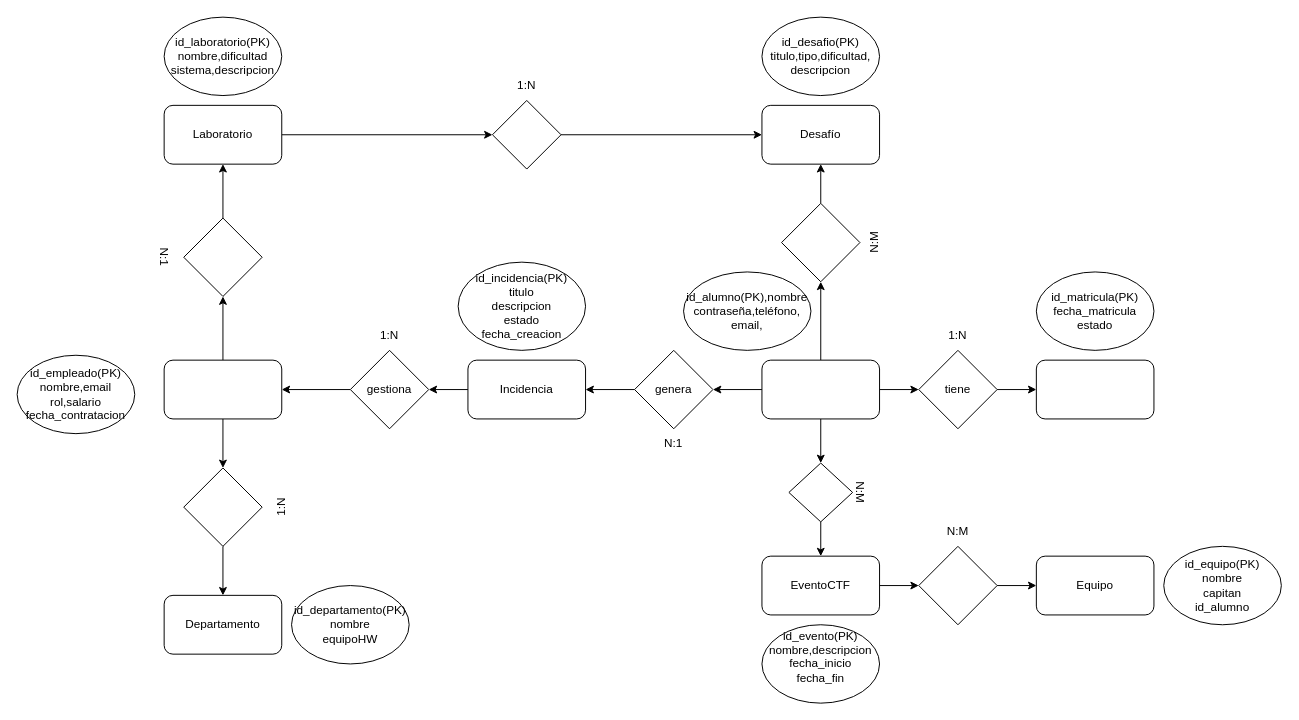
The diagram is 1299 pixels wide and 720 high, and some of its shapes have lost their labels. The shapes that lost their labels are listed below. From the top down, each one's centre as x and y in pixels, then its label:
At pixel 526 134: "contiene".
At pixel 222 256: "crean".
At pixel 820 242: "resuelve".
At pixel 222 389: "Empleado".
At pixel 820 389: "Alumno".
At pixel 1094 389: "Matrícula".
At pixel 222 506: "pertenece".
At pixel 820 492: "se apunta".
At pixel 957 585: "formado por".
